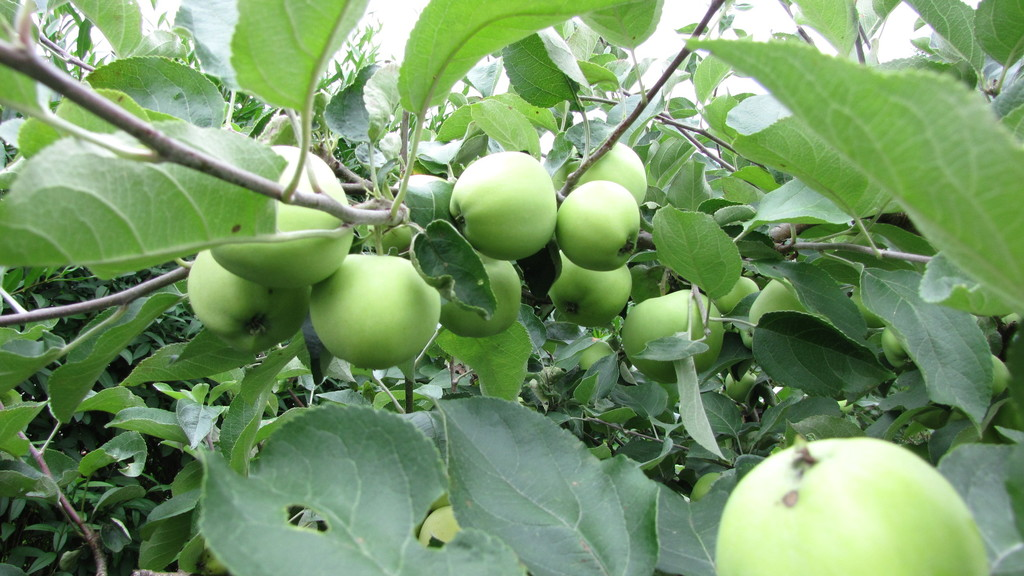Apple: (188, 135, 1010, 545), (712, 438, 984, 575), (445, 150, 554, 262)
